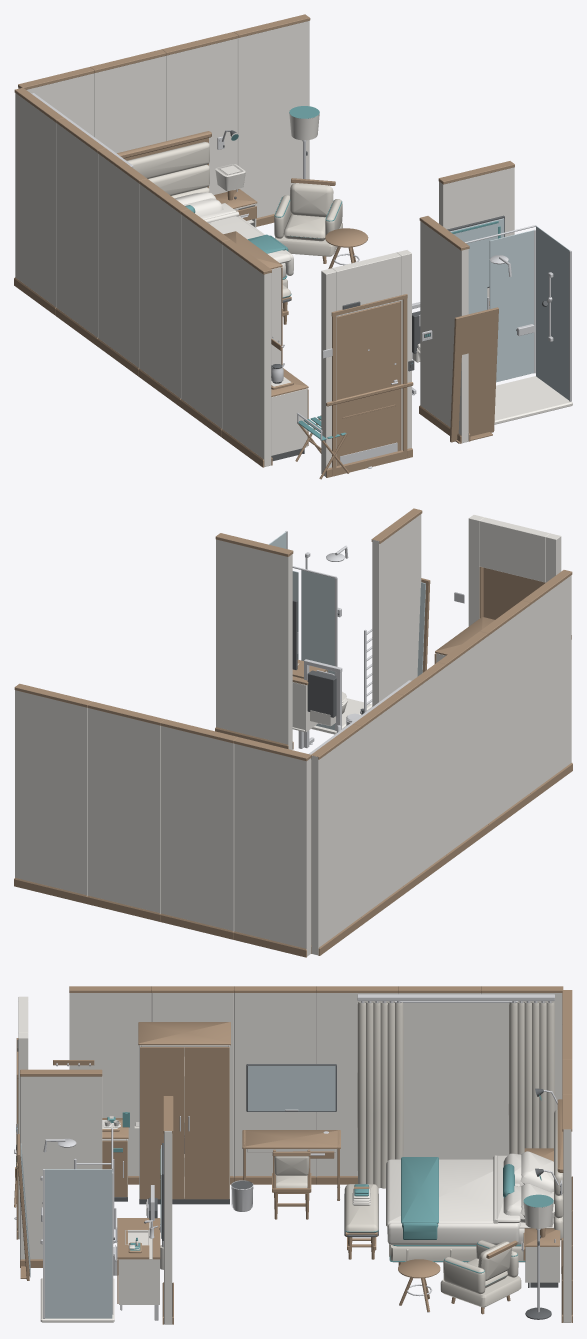
The model's file is hotel_guest_room.glb.
The picture shows the model from 3 angles, top to bottom: view 1: azimuth 30°, elevation 25°; view 2: azimuth 150°, elevation 25°; view 3: azimuth 270°, elevation 25°; orthographic projection. The views are drawn at different scales.
Parts seen in each view (by area): view 1: 003-partition-wall-module/0, 009-partition-wall-module/0, 010-corridor-door-guest-room/door-guest/surface, 038-partition-wall-module/0, 007-partition-wall-module/0, 008-partition-wall-module/0, 004-partition-wall-module/0, 006-partition-wall-module/0, 005-partition-wall-module/0, 002-partition-wall-module/0, 010-corridor-door-guest-room/0, 043-walk-in-shower-enclosure/2 (+32 smaller); view 2: 000-partition-wall-module/0, 037-partition-wall-module/0, 001-partition-wall-module/0, 003-partition-wall-module/0, 002-partition-wall-module/0, 004-partition-wall-module/0, 005-partition-wall-module/0, 008-partition-wall-module/0, 009-partition-wall-module/0, 006-partition-wall-module/0, 007-partition-wall-module/0, 038-partition-wall-module/0 (+19 smaller); view 3: 021-curtain-and-track/2, 021-curtain-and-track/1, 043-walk-in-shower-enclosure/2, 012-bed-king-upholstered/4, 007-partition-wall-module/0, 038-partition-wall-module/0, 009-partition-wall-module/0, 029-wardrobe-with-doors/door-right/surface, 006-partition-wall-module/0, 029-wardrobe-with-doors/door-left/surface, 027-tv-wall-bracket/2, 012-bed-king-upholstered/2 (+41 smaller).
Part boxes in pixels (x1=…): 003-partition-wall-module/0: x1=238, y1=21, x2=309, y2=217; 009-partition-wall-module/0: x1=223, y1=245, x2=271, y2=466; 010-corridor-door-guest-room/door-guest/surface: x1=337, y1=301, x2=400, y2=465; 038-partition-wall-module/0: x1=420, y1=221, x2=468, y2=443; 007-partition-wall-module/0: x1=140, y1=184, x2=181, y2=398; 008-partition-wall-module/0: x1=181, y1=214, x2=222, y2=429; 004-partition-wall-module/0: x1=15, y1=93, x2=56, y2=307; 006-partition-wall-module/0: x1=98, y1=154, x2=139, y2=368; 005-partition-wall-module/0: x1=57, y1=123, x2=98, y2=337; 002-partition-wall-module/0: x1=166, y1=38, x2=237, y2=194; 010-corridor-door-guest-room/0: x1=321, y1=250, x2=411, y2=476; 043-walk-in-shower-enclosure/2: x1=467, y1=226, x2=569, y2=400; 000-partition-wall-module/0: x1=234, y1=744, x2=310, y2=956; 037-partition-wall-module/0: x1=216, y1=539, x2=292, y2=749; 001-partition-wall-module/0: x1=161, y1=726, x2=234, y2=931; 003-partition-wall-module/0: x1=15, y1=690, x2=87, y2=895; 002-partition-wall-module/0: x1=88, y1=708, x2=160, y2=913; 004-partition-wall-module/0: x1=311, y1=730, x2=360, y2=955; 005-partition-wall-module/0: x1=360, y1=699, x2=402, y2=916; 008-partition-wall-module/0: x1=487, y1=606, x2=529, y2=824; 009-partition-wall-module/0: x1=529, y1=575, x2=571, y2=793; 006-partition-wall-module/0: x1=402, y1=668, x2=444, y2=885; 007-partition-wall-module/0: x1=445, y1=637, x2=486, y2=855; 038-partition-wall-module/0: x1=372, y1=514, x2=421, y2=706; 021-curtain-and-track/2: x1=397, y1=1003, x2=515, y2=1159; 021-curtain-and-track/1: x1=357, y1=1002, x2=555, y2=1188; 043-walk-in-shower-enclosure/2: x1=45, y1=1169, x2=112, y2=1318; 012-bed-king-upholstered/4: x1=386, y1=1151, x2=553, y2=1246; 007-partition-wall-module/0: x1=234, y1=993, x2=316, y2=1176; 038-partition-wall-module/0: x1=20, y1=1076, x2=102, y2=1260; 009-partition-wall-module/0: x1=69, y1=993, x2=151, y2=1175; 029-wardrobe-with-doors/door-right/surface: x1=185, y1=1047, x2=229, y2=1199; 006-partition-wall-module/0: x1=316, y1=993, x2=398, y2=1176; 029-wardrobe-with-doors/door-left/surface: x1=140, y1=1047, x2=184, y2=1199; 027-tv-wall-bracket/2: x1=247, y1=1066, x2=335, y2=1111; 012-bed-king-upholstered/2: x1=389, y1=1157, x2=525, y2=1261.
Bounding box in the file's own units: 4.17 × 2.7 × 6.79.
